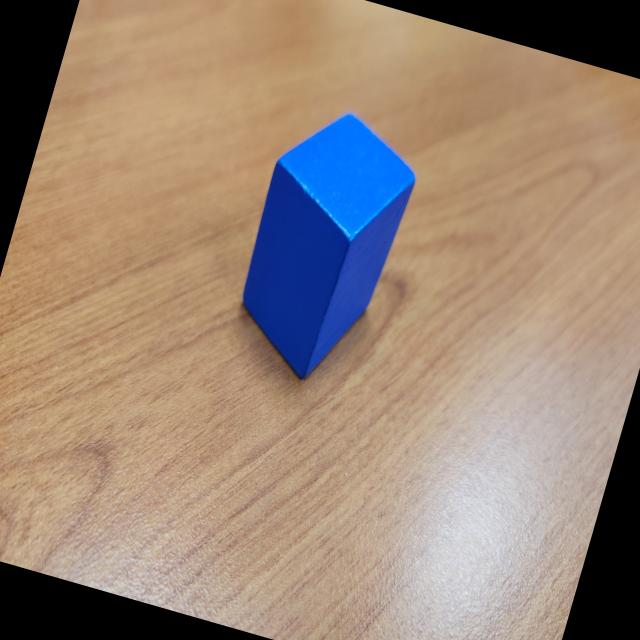blue: (220, 94, 428, 395)
